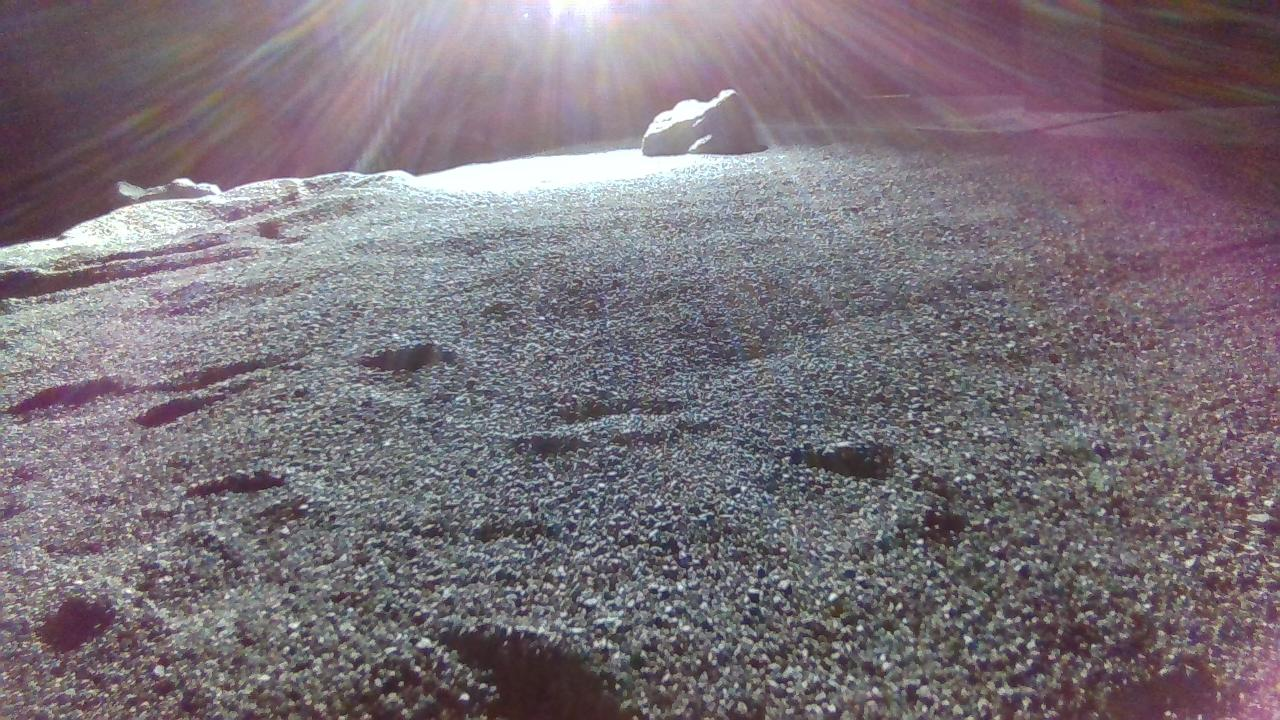rock: (642, 88, 764, 155)
